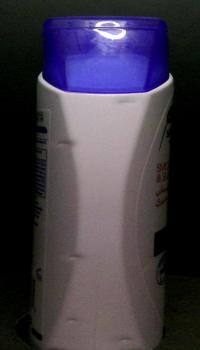dent_marginal: (53, 249, 94, 266), (108, 94, 150, 110), (106, 332, 150, 346), (59, 194, 93, 212), (54, 314, 94, 329), (49, 134, 87, 148)
